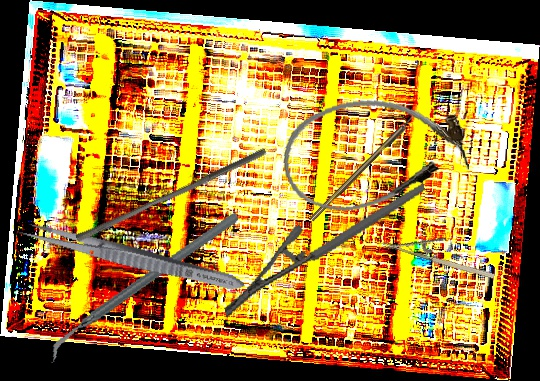Cannula: (276, 86, 473, 220)
Chopper: (27, 211, 260, 363)
Dressing Forceps: (15, 217, 248, 297)
Hook Surgical: (308, 108, 423, 223)
Needle Holder: (206, 182, 444, 319), (380, 219, 501, 283)
Pusher: (74, 140, 268, 249)
